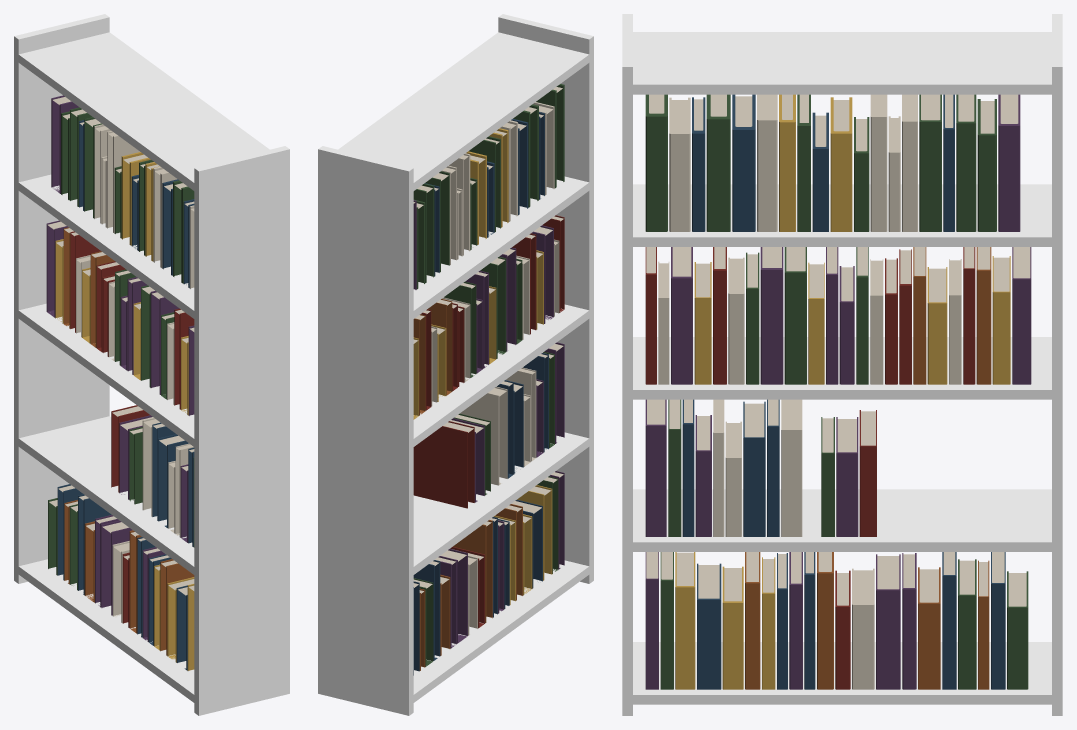
File: livros3.glb
3 renders of one model, left to right at view 1: azimuth 30°, elevation 25°; view 2: azimuth 150°, elevation 25°; view 3: azimuth 270°, elevation 25°, orthographic. The views are drawn at different scales.
Visible parts, largest first — view 1: Estante_Lateral, Estante_Lateral.001, Estante_Prateleira.004, Estante_Prateleira.001, Estante_Prateleira.003, Estante_Prateleira, Estante_Prateleira.002, Livro.013, Livro.041, Livro.027, Livro.060, Livro.068 (+63 smaller); view 2: Estante_Lateral.001, Estante_Prateleira.004, Estante_Lateral, Estante_Prateleira.001, Estante_Prateleira.003, Estante_Prateleira, Estante_Prateleira.002, Livro.033, Livro.029, Livro.010, Livro.042, Livro.057 (+66 smaller); view 3: Estante_Prateleira.004, Estante_Prateleira.001, Estante_Prateleira.002, Estante_Prateleira, Estante_Prateleira.003, Estante_Lateral, Estante_Lateral.001, Livro.060, Livro.013, Livro.041, Livro.061, Livro.071 (+70 smaller).
Part boxes in pixels (x1=…): Estante_Lateral: x1=194, y1=146, x2=289, y2=715; Estante_Lateral.001: x1=14, y1=14, x2=109, y2=583; Estante_Prateleira.004: x1=16, y1=32, x2=269, y2=190; Estante_Prateleira.001: x1=18, y1=416, x2=196, y2=574; Estante_Prateleira.003: x1=18, y1=174, x2=196, y2=319; Estante_Prateleira: x1=18, y1=559, x2=195, y2=702; Estante_Prateleira.002: x1=16, y1=303, x2=196, y2=446; Livro.013: x1=101, y1=520, x2=132, y2=615; Livro.041: x1=150, y1=291, x2=179, y2=394; Livro.027: x1=158, y1=434, x2=188, y2=528; Livro.060: x1=173, y1=180, x2=194, y2=283; Livro.068: x1=107, y1=131, x2=139, y2=233; Estante_Lateral.001: x1=318, y1=146, x2=413, y2=715; Estante_Prateleira.004: x1=338, y1=32, x2=591, y2=191; Estante_Lateral: x1=498, y1=14, x2=593, y2=583; Estante_Prateleira.001: x1=411, y1=432, x2=591, y2=575; Estante_Prateleira.003: x1=411, y1=176, x2=591, y2=318; Estante_Prateleira: x1=412, y1=560, x2=589, y2=702; Estante_Prateleira.002: x1=411, y1=304, x2=591, y2=447; Livro.033: x1=413, y1=421, x2=474, y2=508; Livro.029: x1=460, y1=386, x2=507, y2=485; Livro.010: x1=453, y1=520, x2=492, y2=623; Livro.042: x1=480, y1=256, x2=506, y2=358; Livro.057: x1=536, y1=84, x2=564, y2=188; Estante_Prateleira.004: x1=628, y1=32, x2=1057, y2=94; Estante_Prateleira.001: x1=633, y1=489, x2=1051, y2=551; Estante_Prateleira.002: x1=627, y1=337, x2=1057, y2=399; Estante_Prateleira: x1=633, y1=642, x2=1051, y2=704; Estante_Prateleira.003: x1=629, y1=184, x2=1057, y2=246; Estante_Lateral: x1=622, y1=14, x2=632, y2=715; Estante_Lateral.001: x1=1052, y1=14, x2=1062, y2=715; Livro.060: x1=706, y1=94, x2=730, y2=231; Livro.013: x1=876, y1=554, x2=900, y2=689; Livro.041: x1=760, y1=247, x2=783, y2=384; Livro.061: x1=732, y1=94, x2=755, y2=231; Livro.071: x1=919, y1=94, x2=941, y2=231.
Bounding box in the file's own units: 0.35 × 2 × 1.23.
